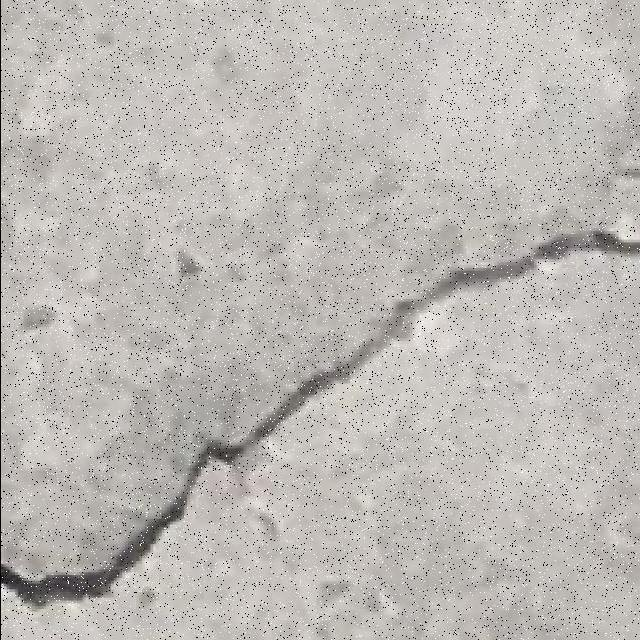crack: (25, 232, 640, 522), (4, 449, 219, 608)
